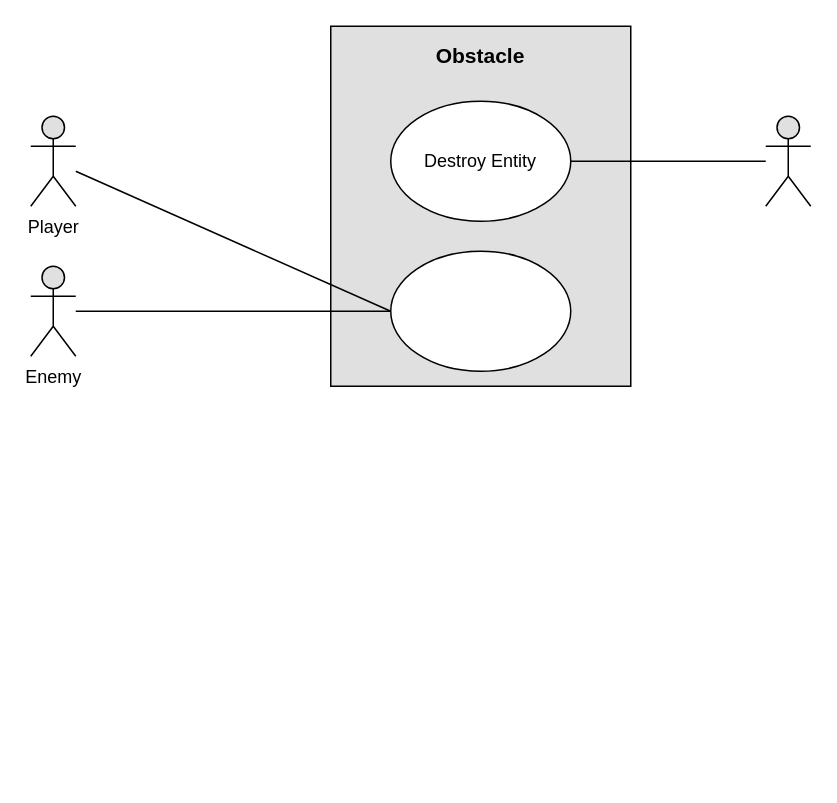
This 837x803 diagram has some shape labels left out. The box of each missing label's shape, as (x1, y1, x2, y2) in pixels:
Bullet: (764, 115, 811, 206)
Prohibit movement: (389, 250, 571, 371)
